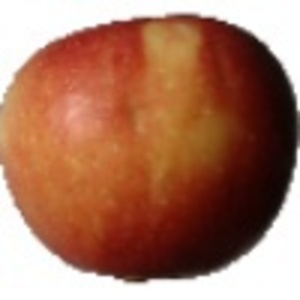maçã braeburn: (1, 10, 298, 280)
